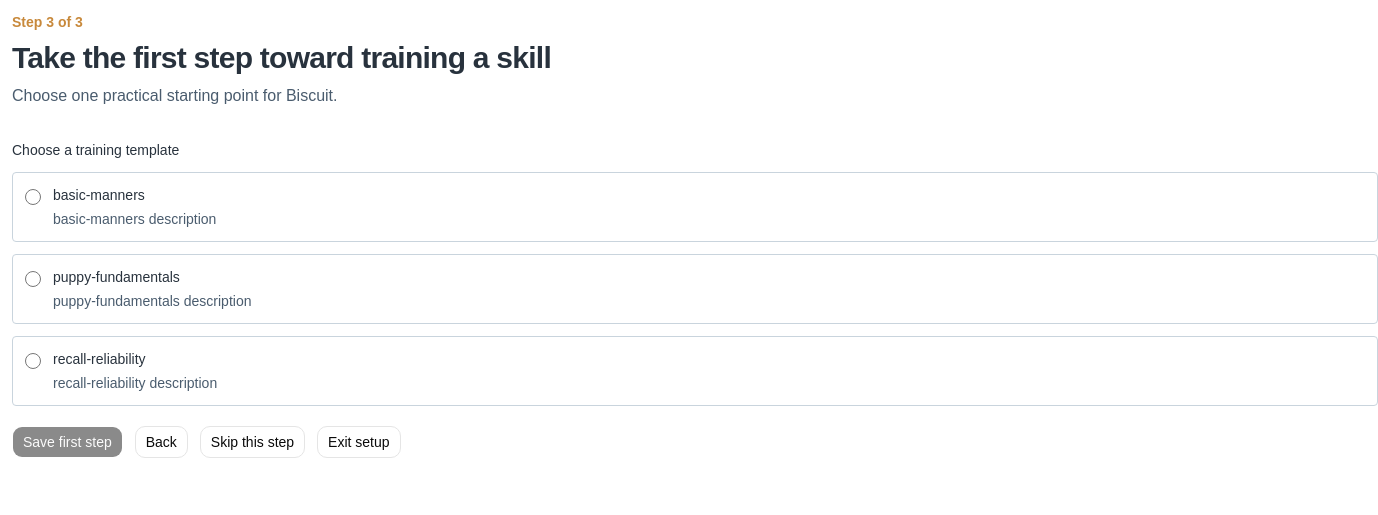
Test: TrainingActionStep › retains the selected template after an ordinary or structured error
Click the radio button labelled "basic-manners basic-manners description" at (33,197), box [25, 189, 41, 205]
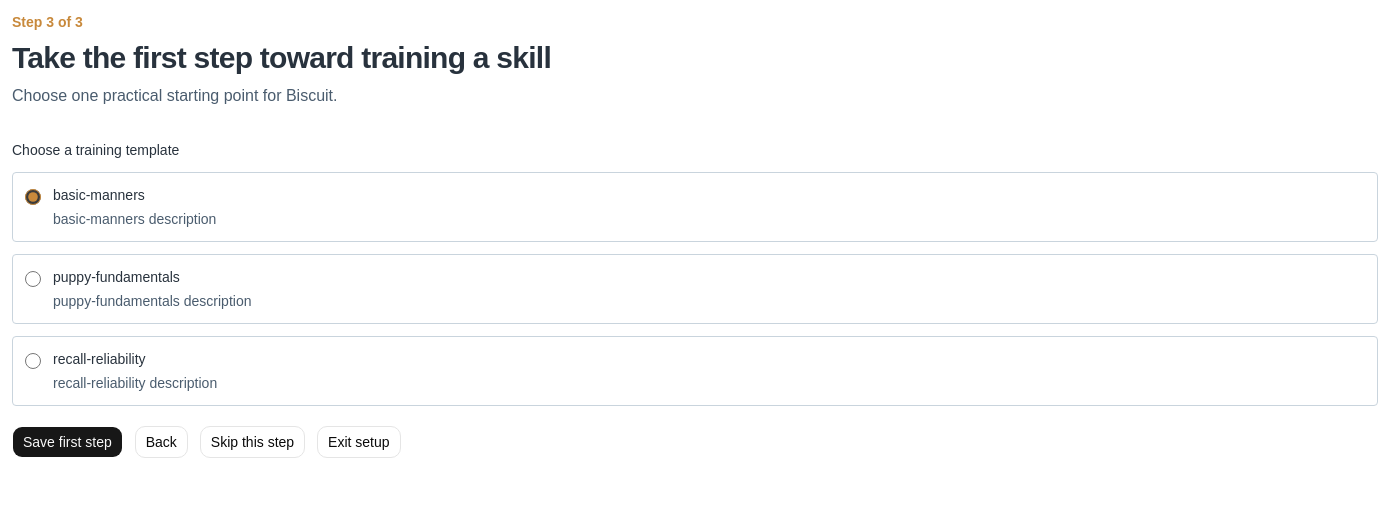
Click the button "Save first step" at (67,442), box [12, 426, 123, 458]
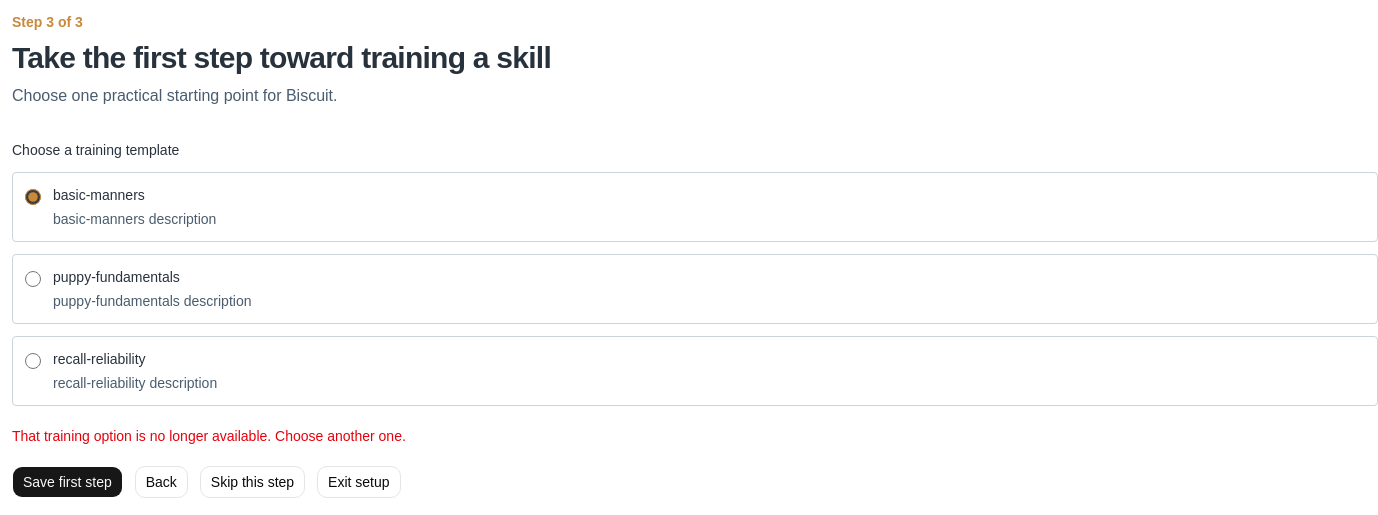
Result: the radio button labelled "basic-manners basic-manners description" is checked at [25, 189, 41, 205]
Result: the message shows "That training option is no longer available" at [12, 428, 406, 444]
